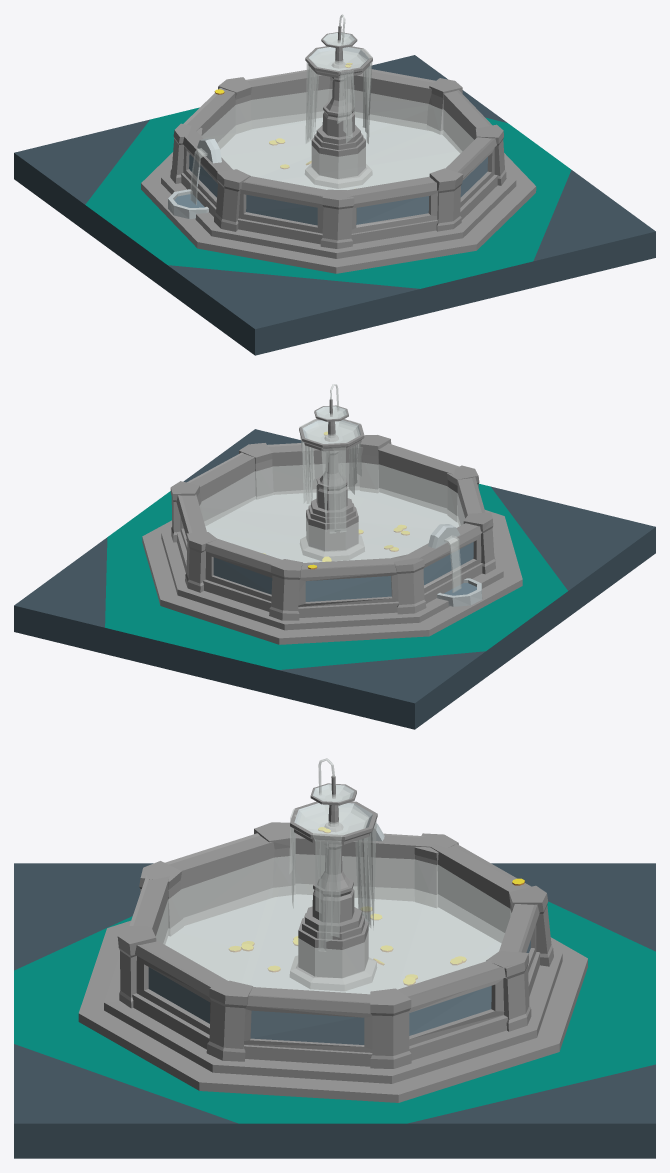
The model's file is Fountain.glb.
3 renders of one model, top to bottom at view 1: azimuth 30°, elevation 25°; view 2: azimuth 150°, elevation 25°; view 3: azimuth 270°, elevation 25°, orthographic. The views are drawn at different scales.
Visible parts, largest first — view 1: group558070164; view 2: group558070164; view 3: group558070164.
Boxes of the visible parts, x1=… form: group558070164: x1=14, y1=14, x2=655, y2=355; group558070164: x1=14, y1=384, x2=655, y2=729; group558070164: x1=14, y1=758, x2=655, y2=1158.
Bounding box in the file's own units: 1.43 × 0.6995 × 1.49.
